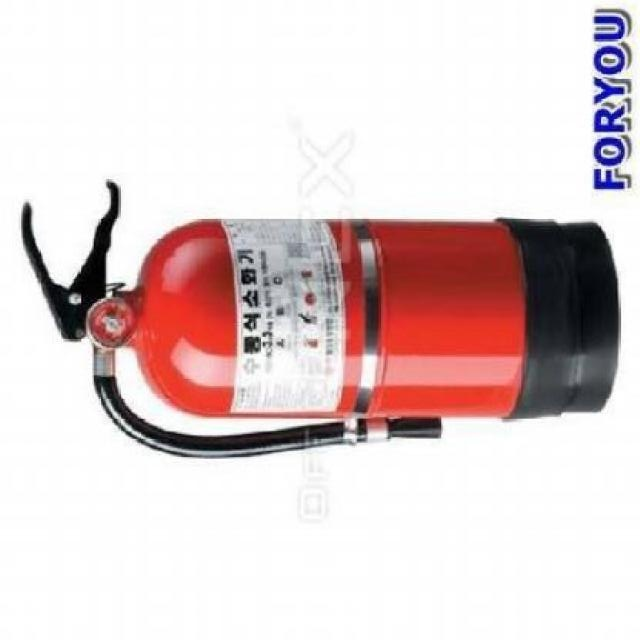fire extinguisher: (20, 179, 620, 459)
